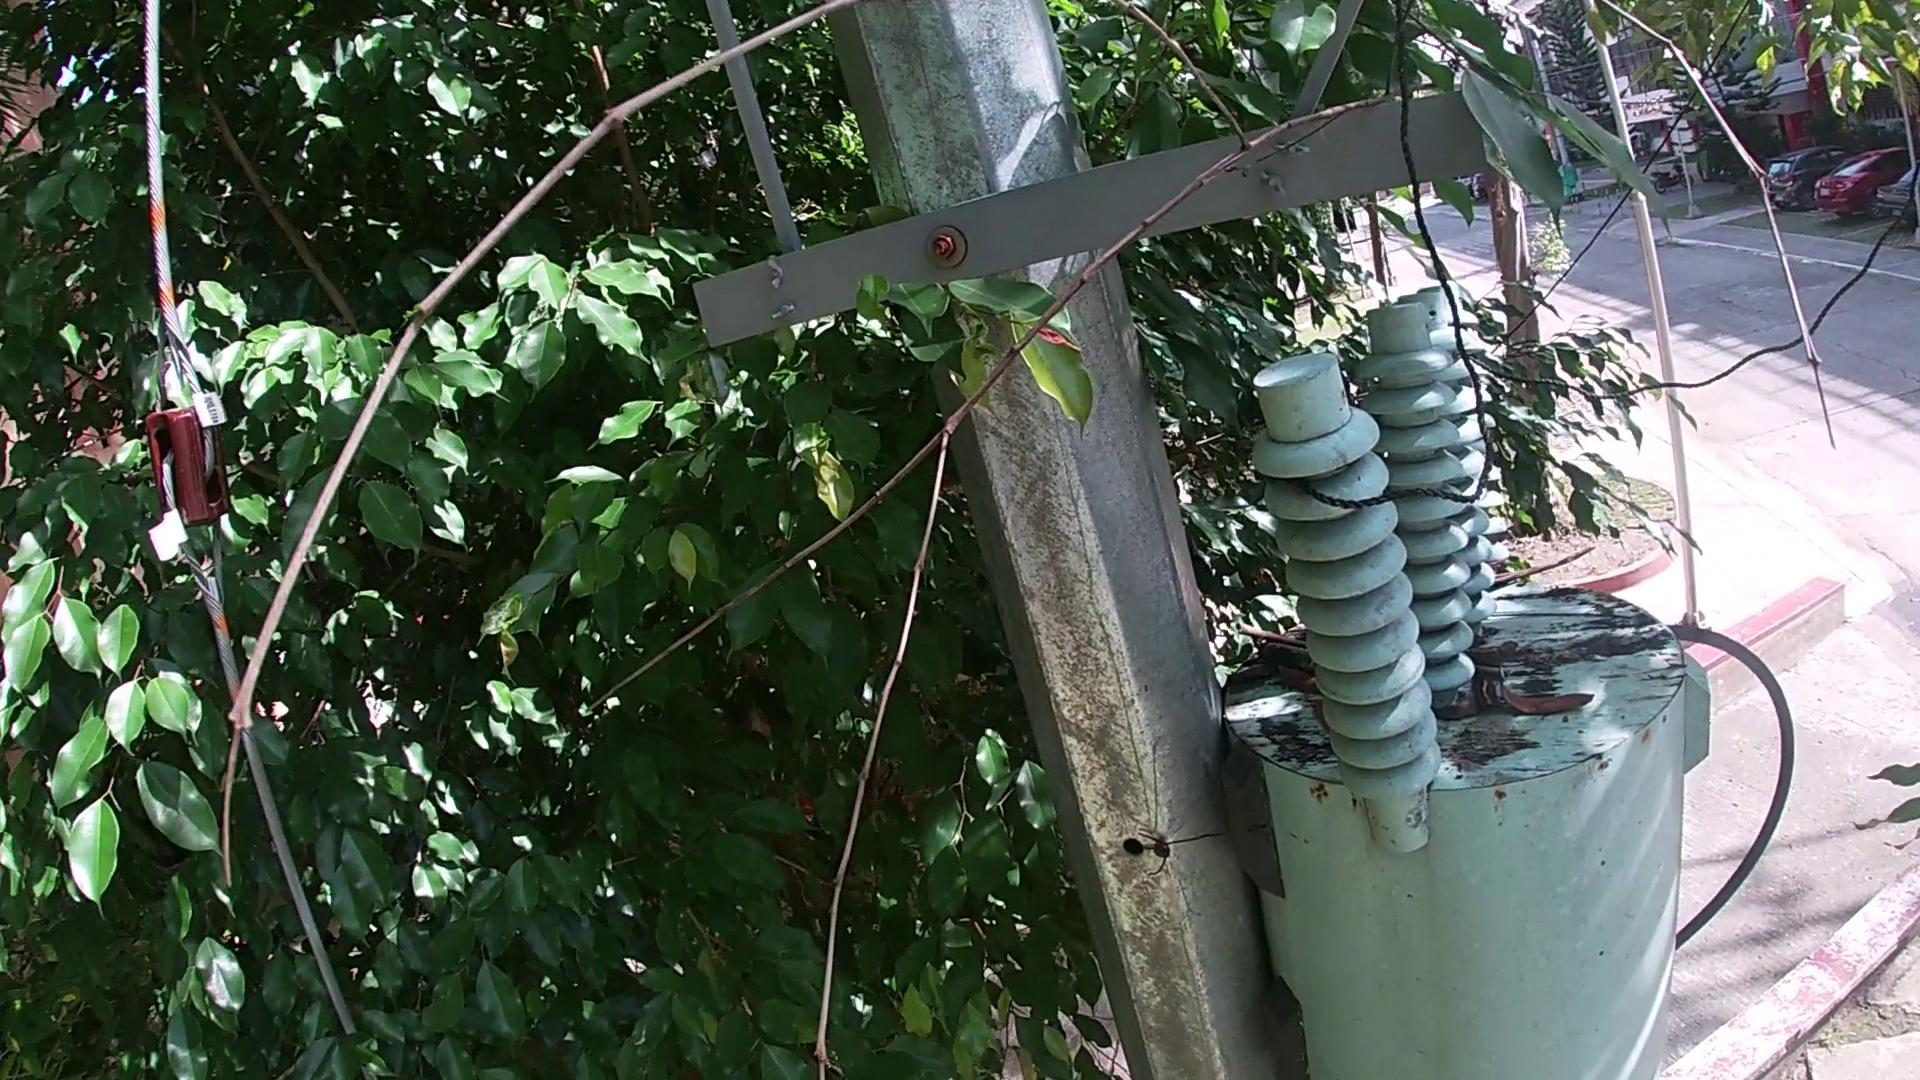leaf: (1502, 671, 1598, 717), (1275, 657, 1321, 695)
tree branch: (200, 1, 1847, 1076), (1485, 537, 1592, 595), (1232, 621, 1315, 671)
